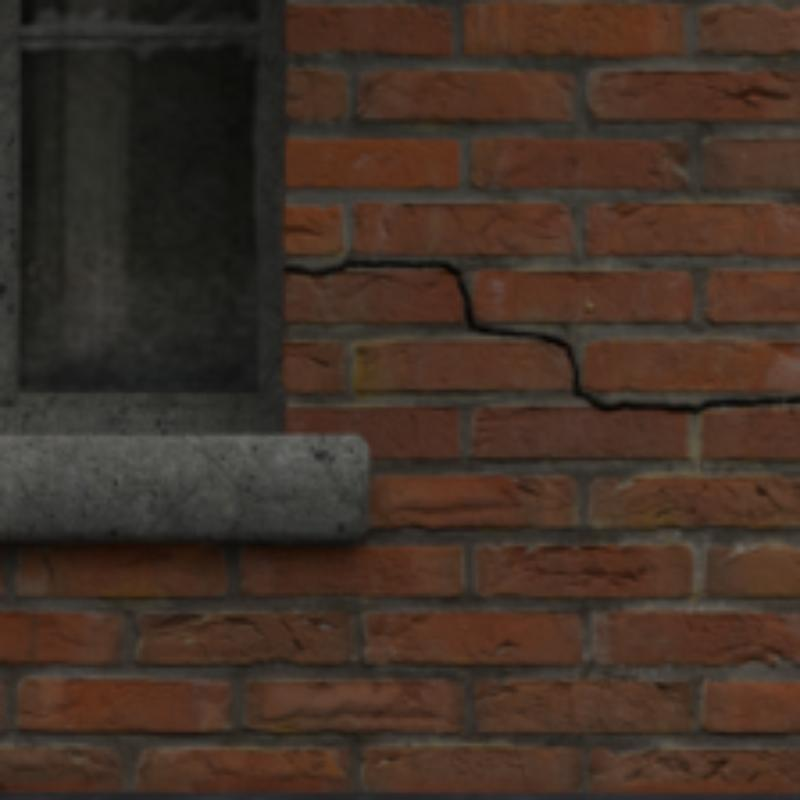crack: (543, 337, 796, 411), (286, 261, 508, 332)
